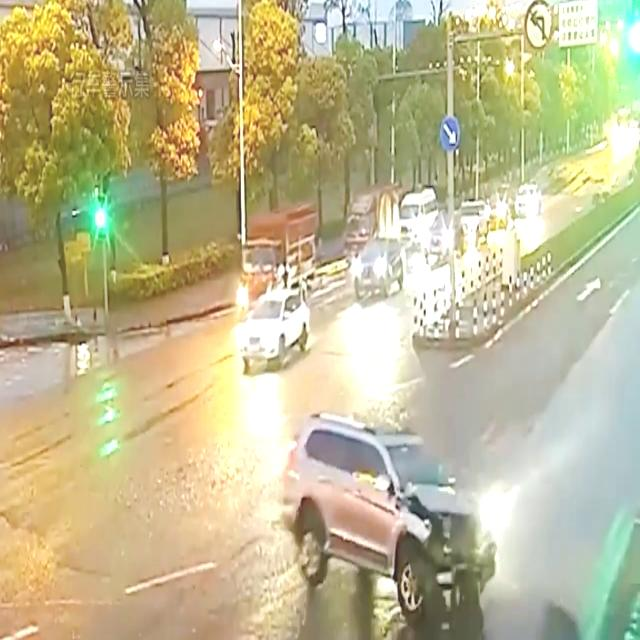accident: (279, 408, 521, 640)
non-accident: (343, 184, 543, 300), (233, 202, 317, 376), (342, 187, 440, 267), (342, 183, 406, 301), (400, 187, 466, 265), (420, 200, 490, 266), (460, 194, 516, 252), (490, 184, 542, 232)
